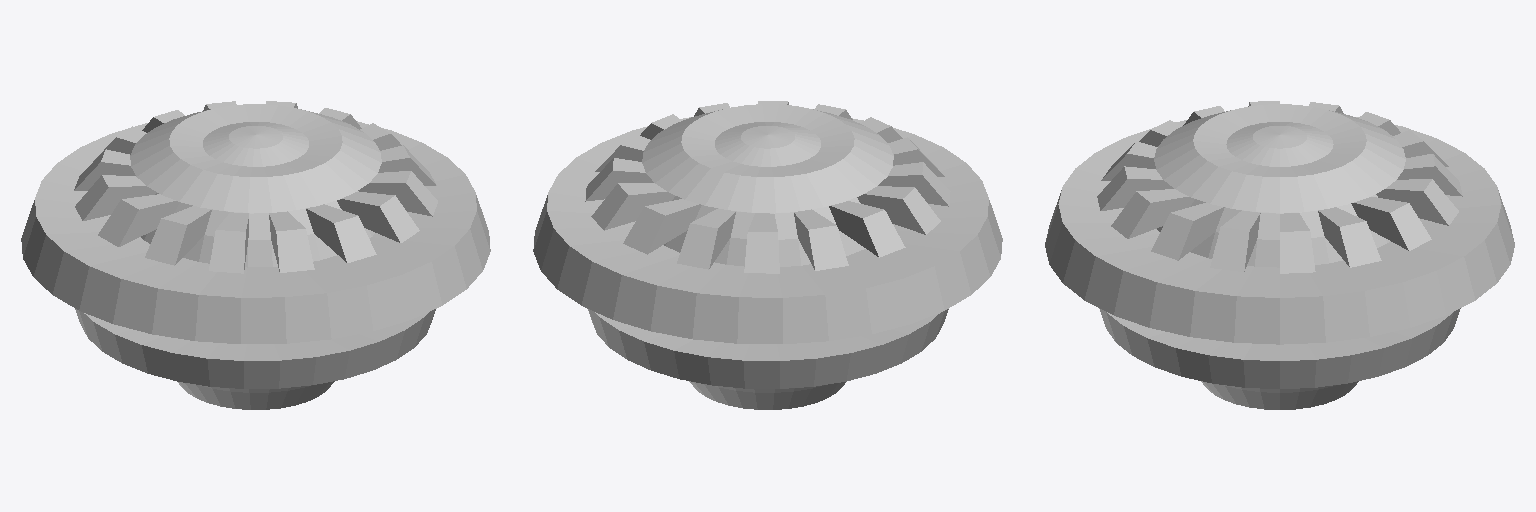
Rendered from spherenvironment.obj.
The picture shows the model from 3 angles: view 1: azimuth 30°, elevation 25°; view 2: azimuth 150°, elevation 25°; view 3: azimuth 270°, elevation 25°; orthographic projection.
Parts seen in each view (by area): view 1: Sphere; view 2: Sphere; view 3: Sphere.
Boxes of the visible parts, <box> form: Sphere: <box>21,101,490,409</box>; Sphere: <box>533,101,1002,409</box>; Sphere: <box>1045,101,1514,409</box>.
Size of the model in its own units: 33.61 by 19.13 by 33.61.